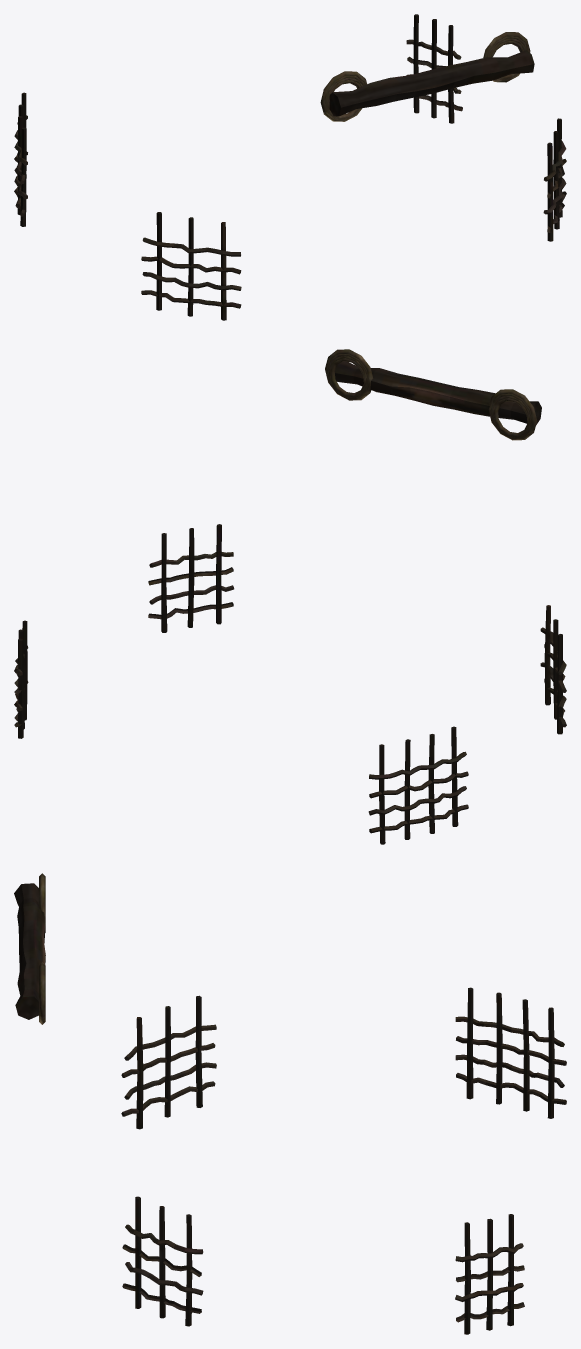
The model's file is hut_wattle.gltf.
The picture shows the model from 3 angles, top to bottom: view 1: azimuth 30°, elevation 25°; view 2: azimuth 150°, elevation 25°; view 3: azimuth 270°, elevation 25°; orthographic projection. The views are drawn at different scales.
Parts seen in each view (by area): view 1: hut_wattle; view 2: hut_wattle; view 3: hut_wattle.
Boxes of the visible parts, x1=… form: hut_wattle: x1=14, y1=14, x2=566, y2=320; hut_wattle: x1=14, y1=349, x2=566, y2=844; hut_wattle: x1=14, y1=873, x2=566, y2=1334.
Size of the model in its own units: 2.97 by 1.67 by 2.83.
3 materials, 3 textured.
